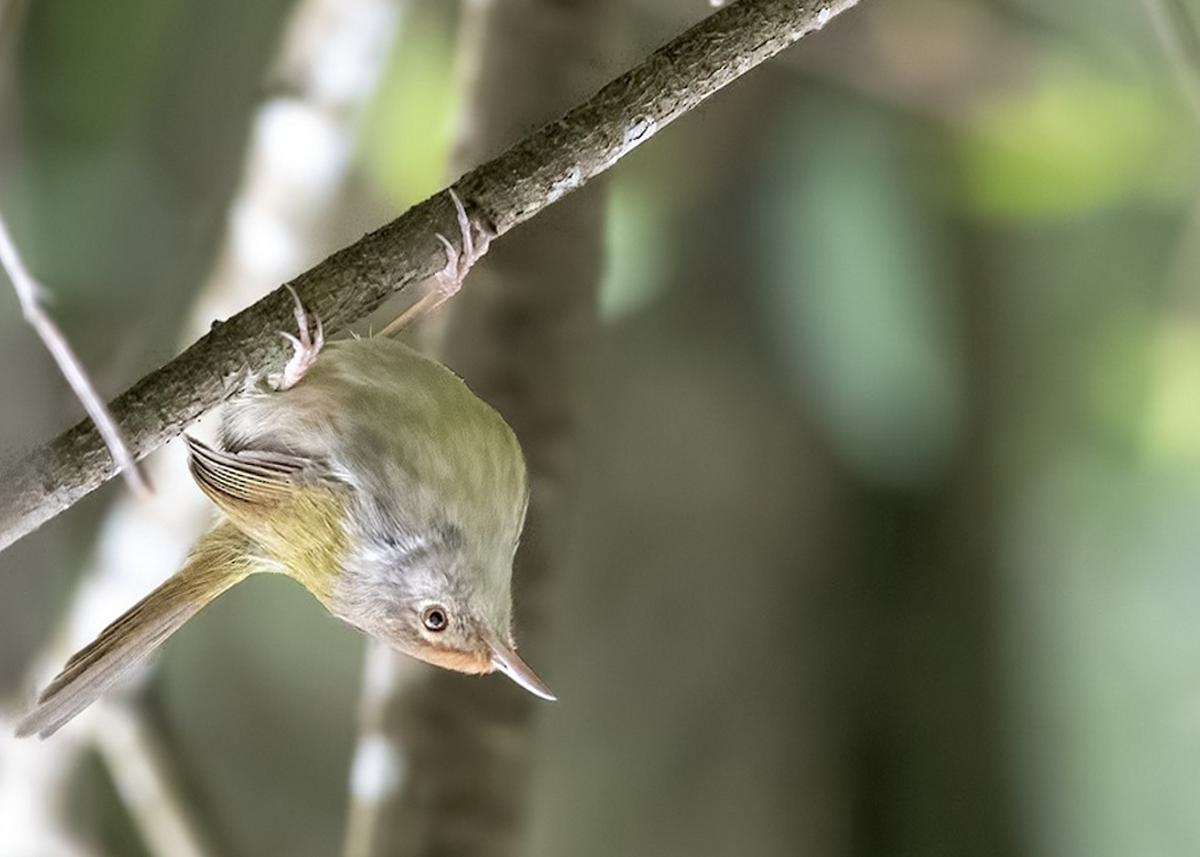tailorbird: (65, 278, 571, 760)
